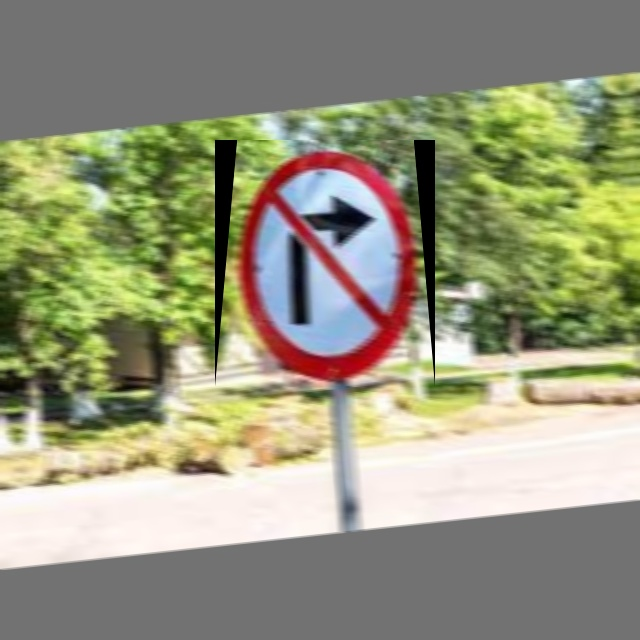Right_Turn_Prohibited: (215, 140, 435, 387)
